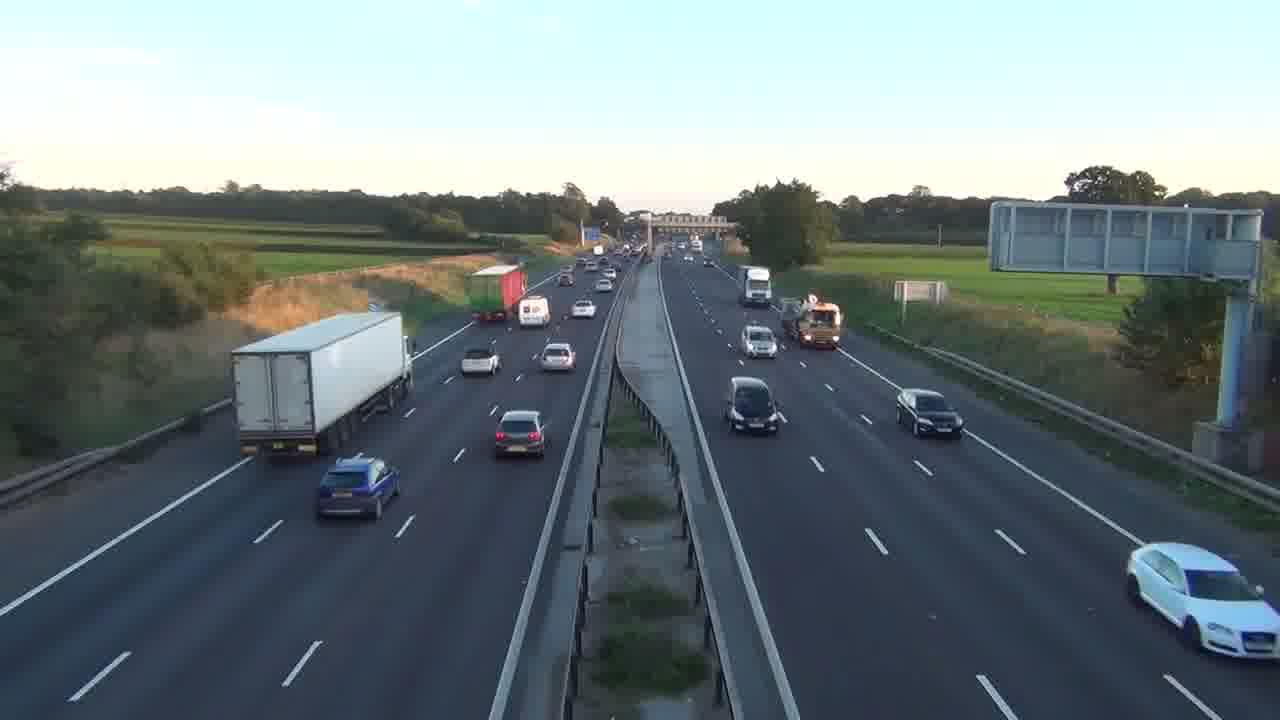car: (1125, 541, 1279, 662), (315, 455, 402, 520), (494, 409, 547, 458), (533, 340, 577, 373), (571, 298, 597, 319)
truck: (228, 309, 410, 461), (464, 262, 527, 322), (797, 304, 843, 351), (741, 266, 773, 307), (518, 296, 551, 329)
